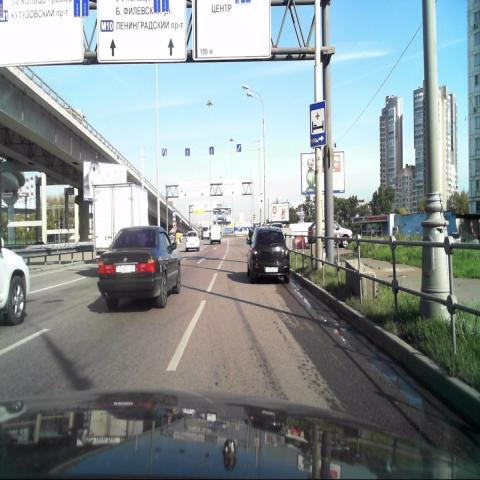7_2: (309, 104, 326, 147)
